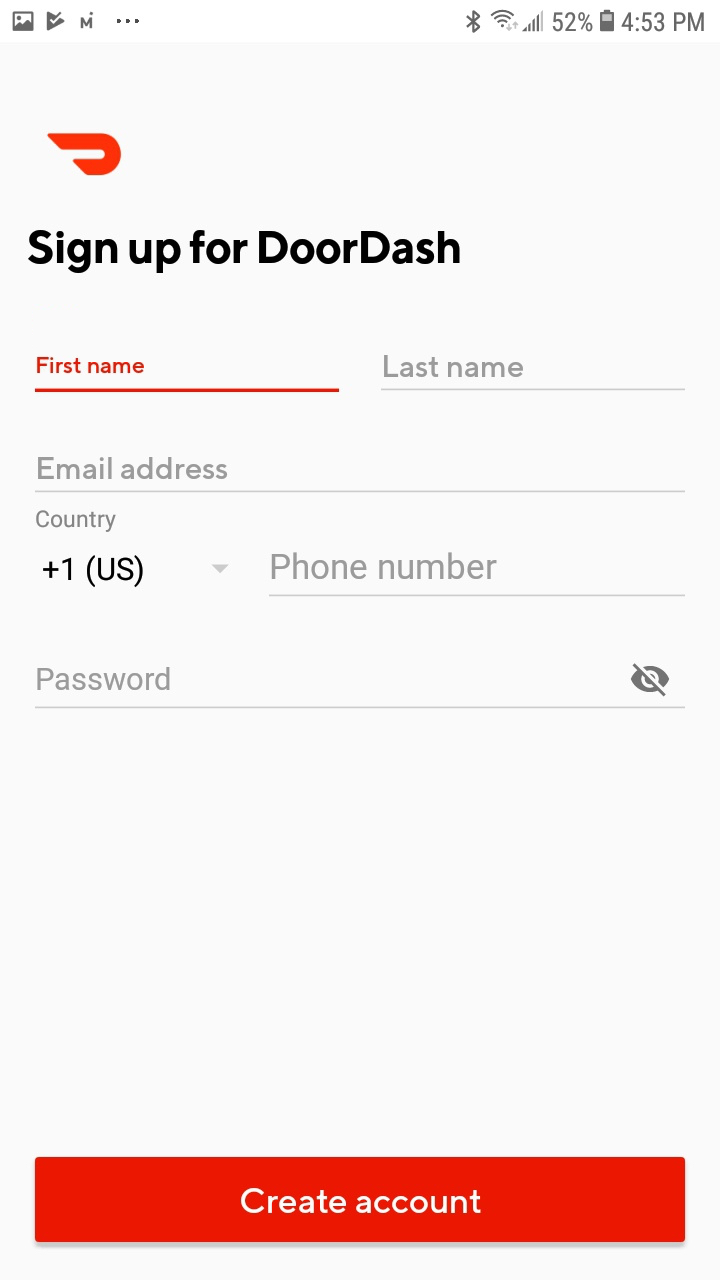EditText: (36, 662, 686, 709), (36, 456, 686, 494), (270, 552, 686, 598), (381, 355, 686, 392), (35, 357, 340, 394)
Icon: (630, 663, 670, 698), (212, 564, 229, 574)
Image: (48, 133, 123, 177)
Text: (29, 230, 461, 275), (271, 552, 497, 580), (38, 456, 228, 480), (43, 554, 145, 588), (37, 666, 171, 691), (384, 355, 524, 378), (36, 509, 117, 533), (37, 357, 145, 374)
TextButton: (36, 1157, 686, 1243)
UpperTaskBar: (1, 1, 720, 43)
